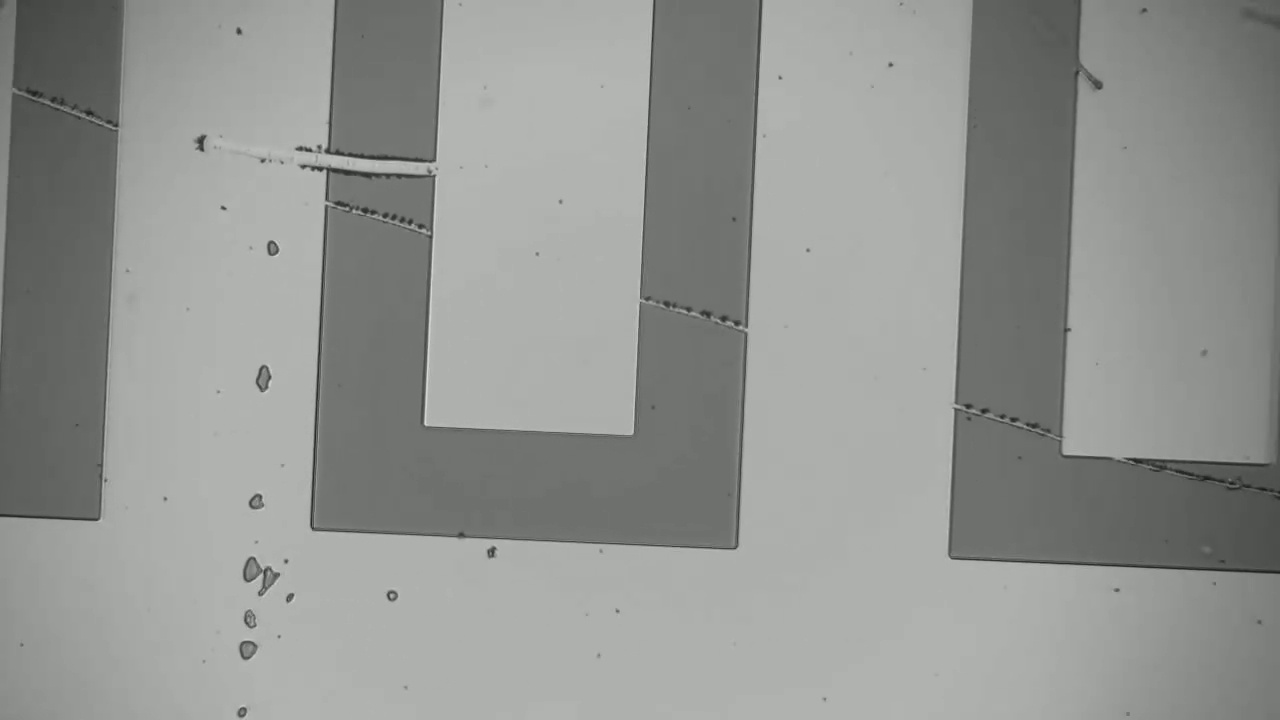Short_circuit: (302, 140, 457, 187)
scratch: (19, 83, 111, 125), (1145, 467, 1273, 494), (961, 398, 1056, 434), (645, 293, 745, 327), (330, 195, 422, 230)
